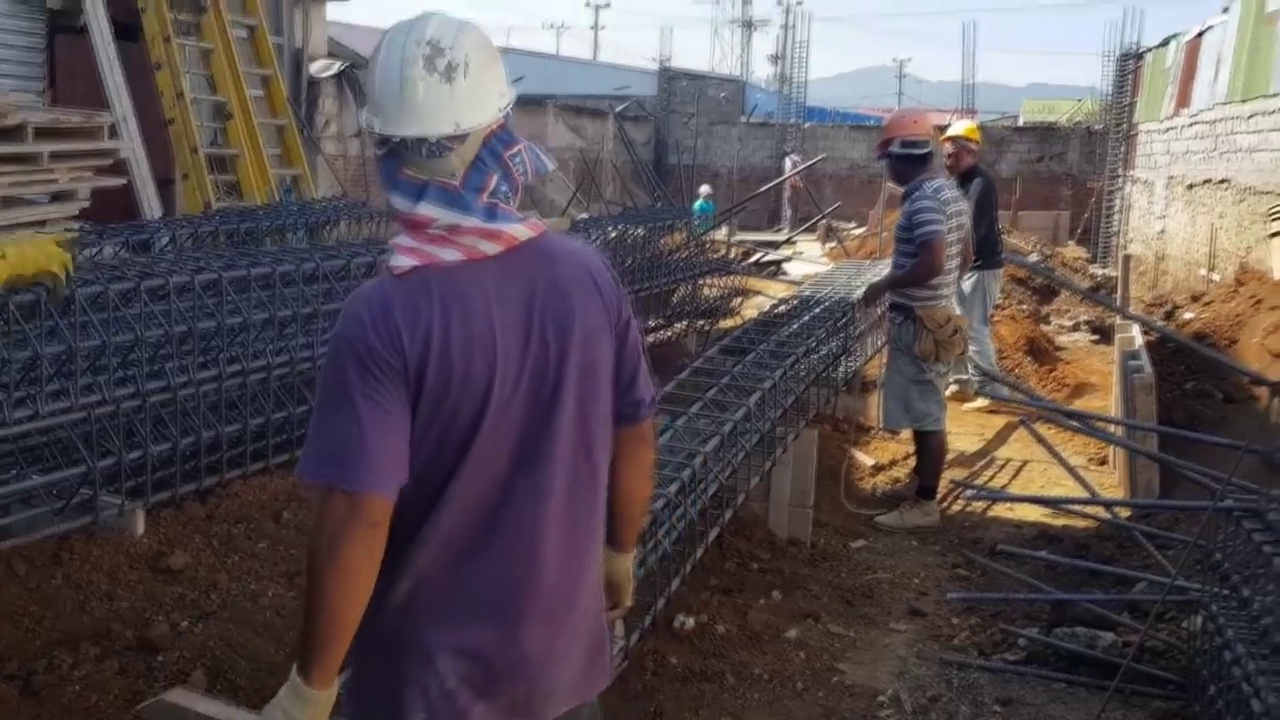helmet: (346, 6, 523, 148), (871, 106, 939, 159), (942, 119, 985, 145), (697, 185, 713, 196)
helmet-off: (781, 145, 796, 158)
helmet-on: (348, 10, 522, 231), (872, 105, 940, 192), (942, 119, 985, 181), (697, 185, 714, 202)
person: (264, 7, 654, 720), (857, 106, 968, 533), (941, 118, 1005, 401), (780, 145, 803, 234), (691, 184, 715, 216)
